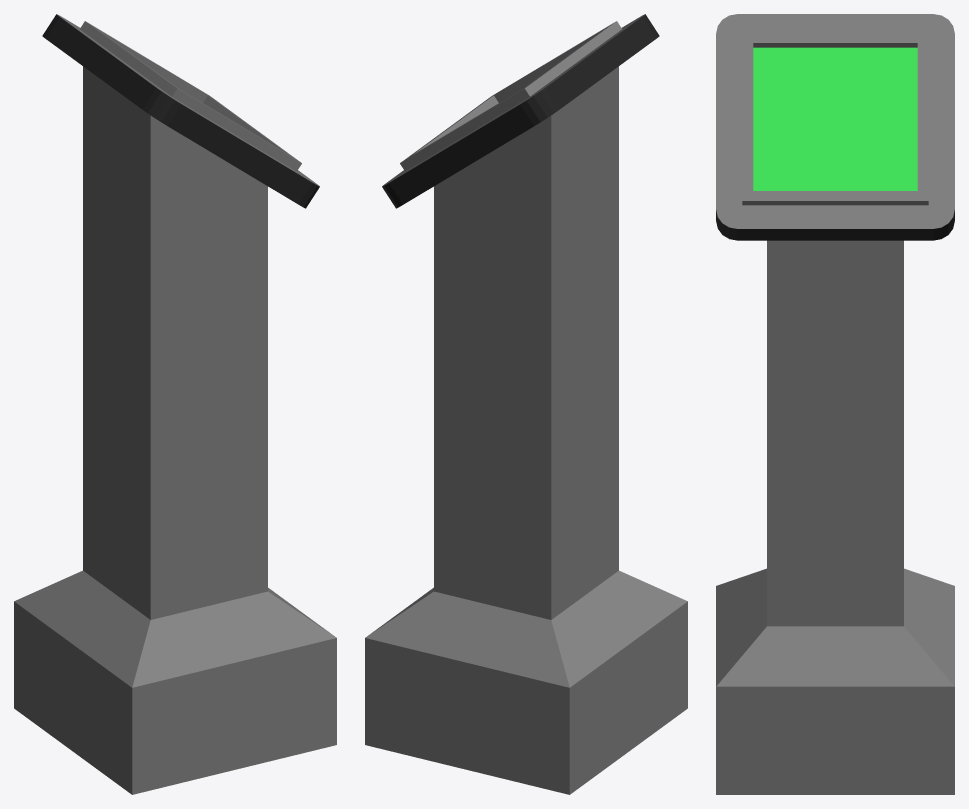
The model's file is ScannerPilar.fbx.
3 views of the same model, side by side, from view 1: azimuth 30°, elevation 25°; view 2: azimuth 150°, elevation 25°; view 3: azimuth 270°, elevation 25° (orthographic).
Visible parts, largest first — view 1: Cube; view 2: Cube; view 3: Cube.
Boxes of the visible parts, x1,y1,x2,y2 form: Cube: (14,14,336,794); Cube: (365,14,687,794); Cube: (716,14,954,794).
Bounding box in the file's own units: 200 × 645 × 200.
